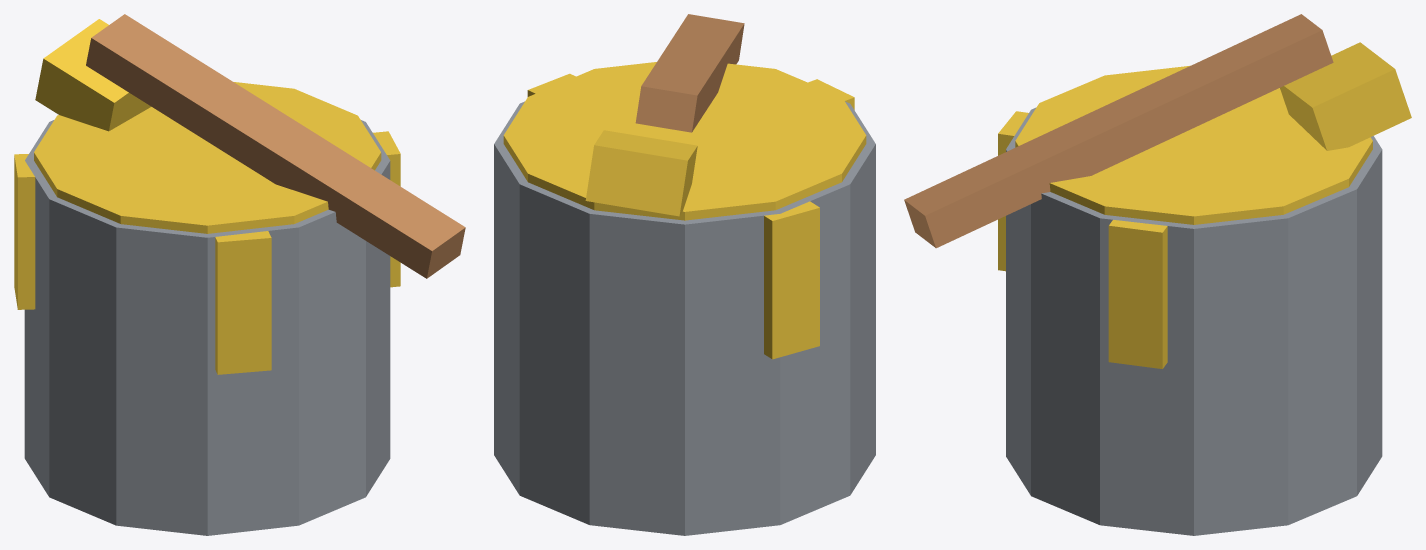
The model's file is gold_paint_can.glb.
The picture shows the model from 3 angles, left to right: view 1: azimuth 30°, elevation 25°; view 2: azimuth 150°, elevation 25°; view 3: azimuth 270°, elevation 25°; orthographic projection. The views are drawn at different scales.
Visible parts, largest first — view 1: can_paint_tin, brush_brush_wood, can_paint_gold, drips_paint_gold, brush_paint_gold; view 2: can_paint_tin, can_paint_gold, drips_paint_gold, brush_brush_wood, brush_paint_gold; view 3: can_paint_tin, can_paint_gold, brush_brush_wood, drips_paint_gold, brush_paint_gold.
Boxes of the visible parts, box(x1,y1,x2,y2) form: can_paint_tin: box(24, 120, 390, 535); brush_brush_wood: box(86, 14, 465, 278); can_paint_gold: box(34, 82, 381, 233); drips_paint_gold: box(14, 131, 400, 374); brush_paint_gold: box(35, 19, 151, 131); can_paint_tin: box(494, 101, 875, 535); can_paint_gold: box(503, 62, 866, 220); drips_paint_gold: box(527, 73, 854, 359); brush_brush_wood: box(635, 14, 744, 132); brush_paint_gold: box(585, 130, 697, 216); can_paint_tin: box(1006, 107, 1382, 535); can_paint_gold: box(1015, 65, 1372, 224); brush_brush_wood: box(904, 14, 1333, 248); drips_paint_gold: box(998, 111, 1167, 368); brush_paint_gold: box(1280, 42, 1411, 150).
Size of the model in its own units: 0.2055 by 0.2439 by 0.2699.
